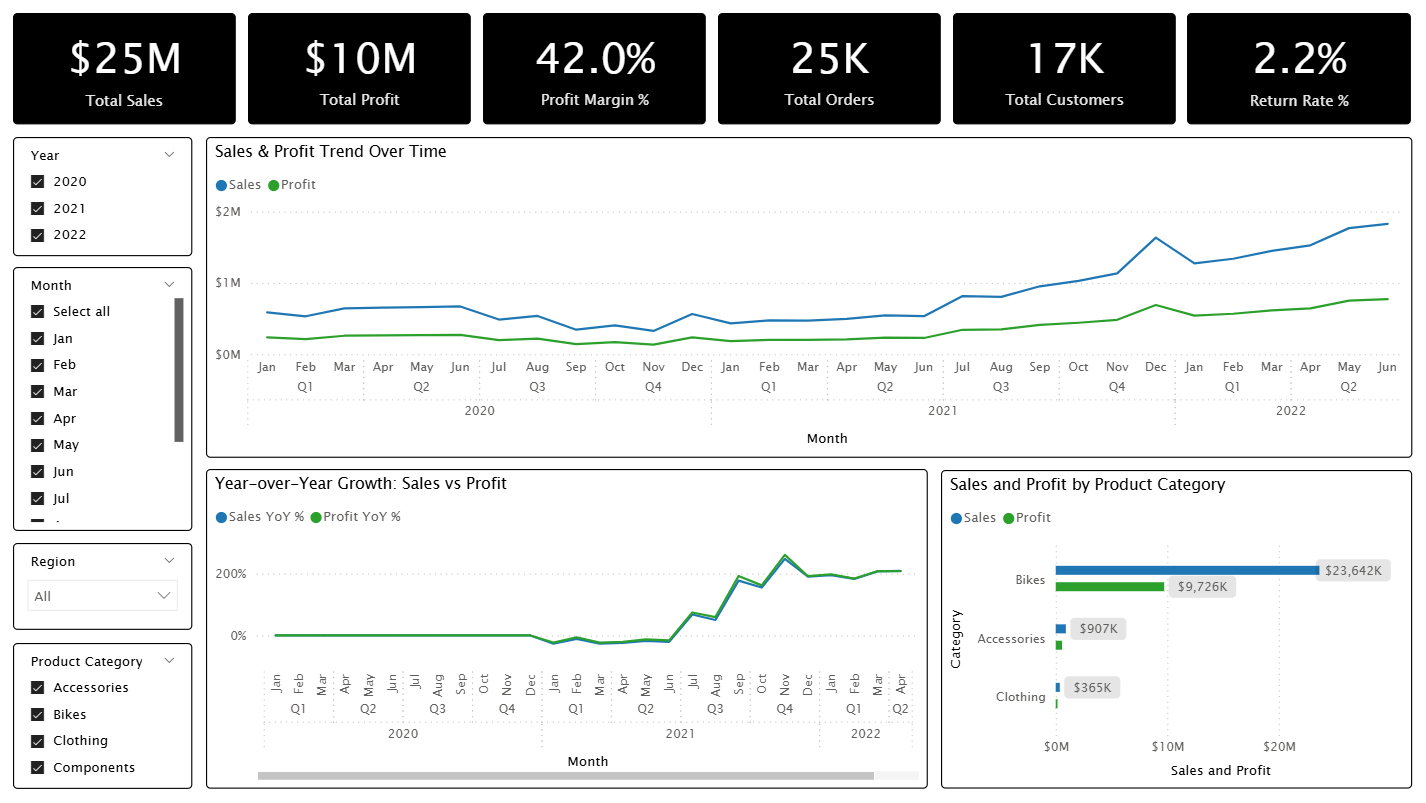

Layout of this report page (visuals, bound fields, positions):
{"tool":"powerbi","page":{"name":"Executive Overview","canvas":[1280,720],"ordinal":0},"visuals":[{"type":"card","fields":{"Values":["measure_table.Total Sales"]},"box":[12,11,200,100],"z":0},{"type":"card","fields":{"Values":["measure_table.Total Profit"]},"box":[222.7,11,200.4,99.7],"z":1000},{"type":"card","fields":{"Values":["measure_table.Profit Margin %"]},"box":[433.6,11,200.4,99.7],"z":2000},{"type":"card","fields":{"Values":["measure_table.Total Orders"]},"box":[644.6,11,200.4,99.7],"z":3000},{"type":"card","fields":{"Values":["measure_table.Total Customers"]},"box":[855.5,11,200.4,99.7],"z":4000},{"type":"card","fields":{"Values":["measure_table.Return Rate %"]},"box":[1066,11,201,100],"z":5000},{"type":"slicer","fields":{"Values":["dim_date.Year"]},"box":[11.7,122.1,160.7,107],"z":6000},{"type":"slicer","fields":{"Values":["dim_date.Month Short"]},"box":[11.7,238.8,160.7,237],"z":7000},{"type":"slicer","fields":{"Values":["dim_territory.Region"]},"box":[11.7,486.6,160.7,78.1],"z":8000},{"type":"slicer","fields":{"Values":["dim_product.CategoryName"]},"box":[11.7,576.4,160.7,131.1],"z":9000},{"type":"lineChart","title":"Sales & Profit Trend Over Time","fields":{"Y":["measure_table.Total Sales","measure_table.Total Profit"],"Category":["dim_date.Year","dim_date.QuarterText","dim_date.Month Short"]},"box":[185,122,1082.7,288],"z":10000},{"type":"lineChart","title":"Year-over-Year Growth: Sales vs Profit","fields":{"Y":["measure_table.Sales YoY %","measure_table.Profit YoY %"],"Category":["dim_date.Year","dim_date.QuarterText","dim_date.Month Short"]},"box":[184.9,420.1,648.2,287.3],"z":11000},{"type":"clusteredBarChart","title":"Sales and Profit by Product Category","fields":{"Category":["dim_product.CategoryName"],"Y":["measure_table.Total Sales","measure_table.Total Profit"]},"box":[844.8,421,422.8,286.4],"z":12000}]}

Visuals, with their boxes in screenshot pixels (x1, y1, x2, y2), scaled from the page's 1280x720 canvas onto the 1426x803 screenshot:
card - measure_table.Total Sales: 13,12,236,124
card - measure_table.Total Profit: 248,12,471,123
card - measure_table.Profit Margin %: 483,12,706,123
card - measure_table.Total Orders: 718,12,941,123
card - measure_table.Total Customers: 953,12,1176,123
card - measure_table.Return Rate %: 1188,12,1412,124
slicer - dim_date.Year: 13,136,192,256
slicer - dim_date.Month Short: 13,266,192,531
slicer - dim_territory.Region: 13,543,192,630
slicer - dim_product.CategoryName: 13,643,192,789
"Sales & Profit Trend Over Time" lineChart: 206,136,1412,457
"Year-over-Year Growth: Sales vs Profit" lineChart: 206,469,928,789
"Sales and Profit by Product Category" clusteredBarChart: 941,470,1412,789
